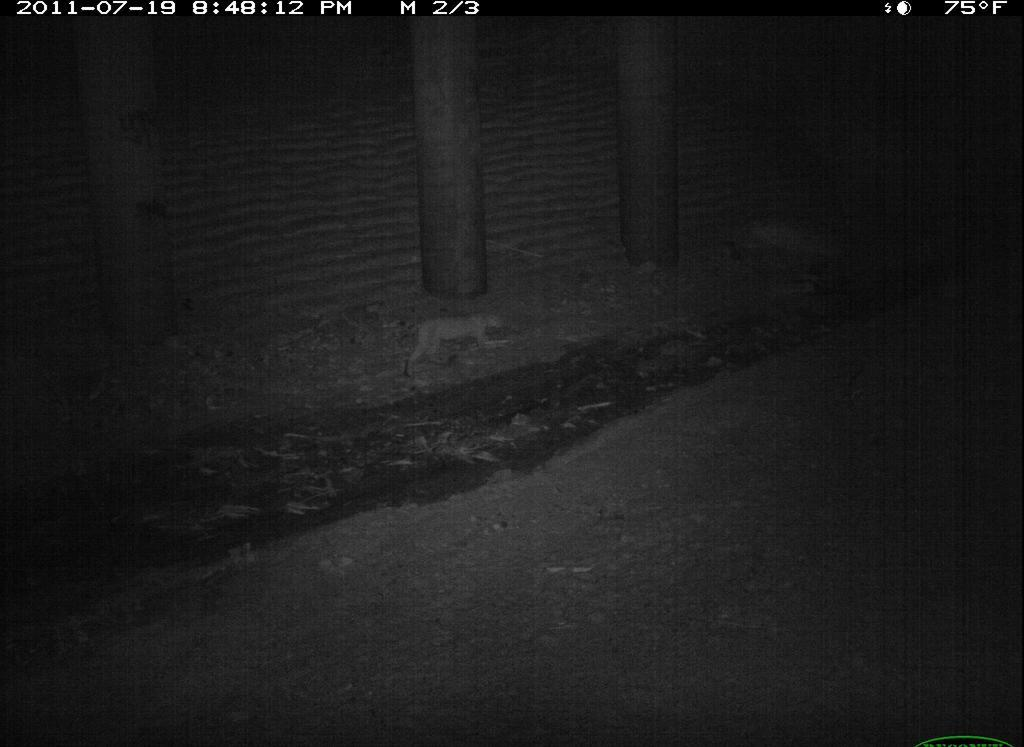bobcat: (797, 606, 1020, 747)
